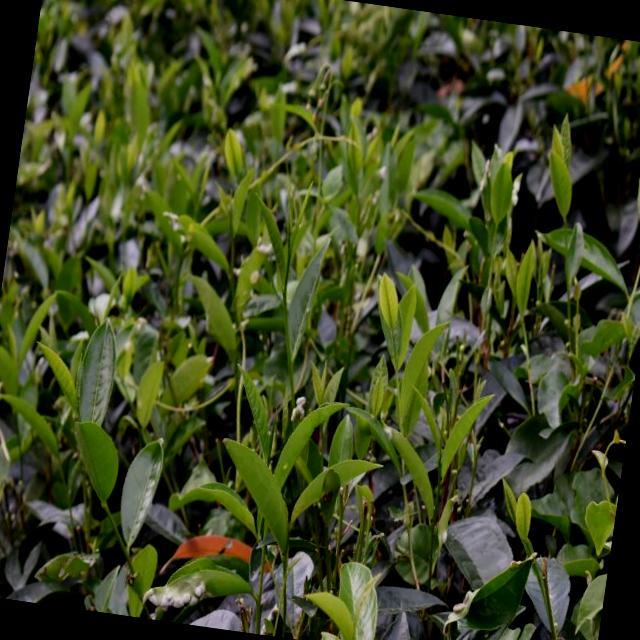Stem: (284, 552, 288, 558), (283, 292, 286, 297), (262, 543, 265, 547), (396, 368, 398, 372), (521, 319, 523, 322)
